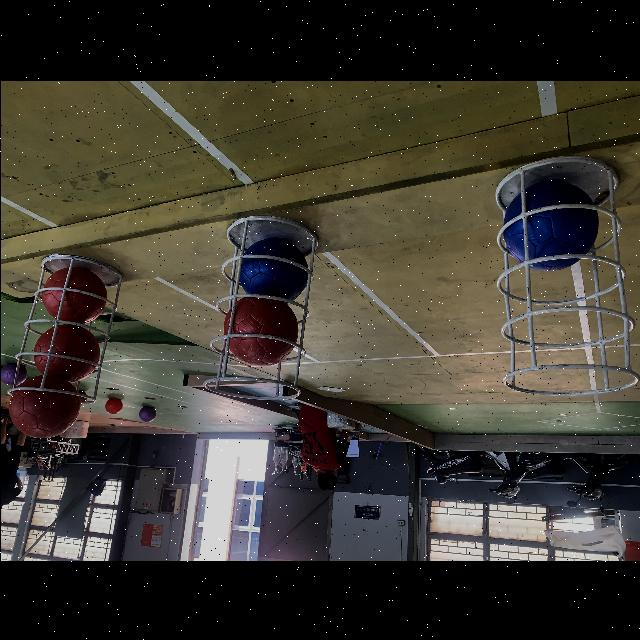B: (501, 177, 599, 269), (238, 240, 308, 298)
R: (222, 296, 296, 366), (9, 376, 80, 438), (32, 324, 100, 382), (40, 267, 107, 325)
